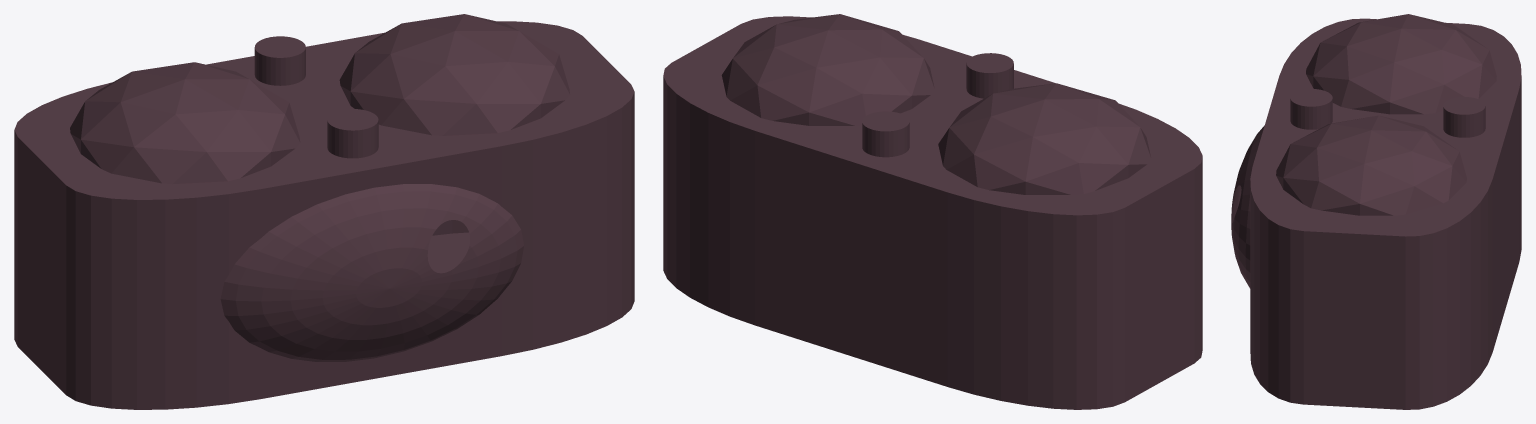
The model's file is Radio.fbx.
3 views of the same model, side by side, from view 1: azimuth 30°, elevation 25°; view 2: azimuth 150°, elevation 25°; view 3: azimuth 270°, elevation 25° (orthographic). The views are drawn at different scales.
Visible parts, largest first — view 1: Radio; view 2: Radio; view 3: Radio.
Boxes of the visible parts, left/top/right/bottom form: Radio: left=14, top=14, right=634, bottom=409; Radio: left=663, top=14, right=1202, bottom=409; Radio: left=1231, top=14, right=1521, bottom=409.
Bounding box in the file's own units: 5227 × 9289 × 4372.
